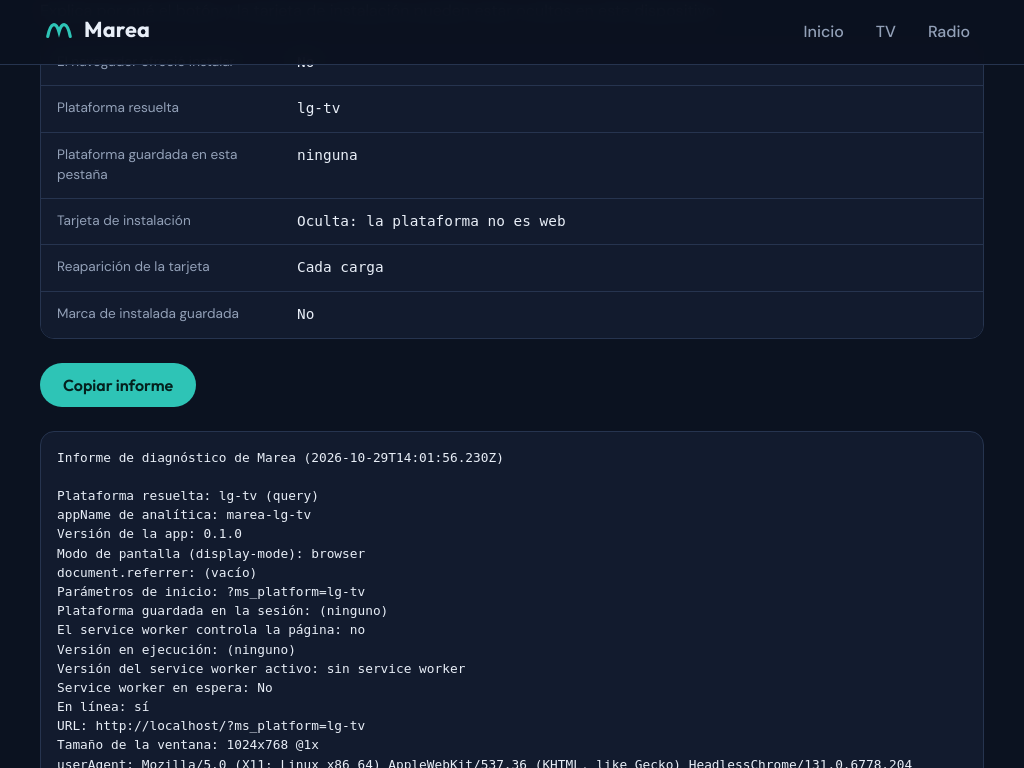
Test: Debug copy report › copies the report with the clipboard API
(page scrolled)
Click the button "Copiar informe": x=118, y=385 40,363 -> 196,407
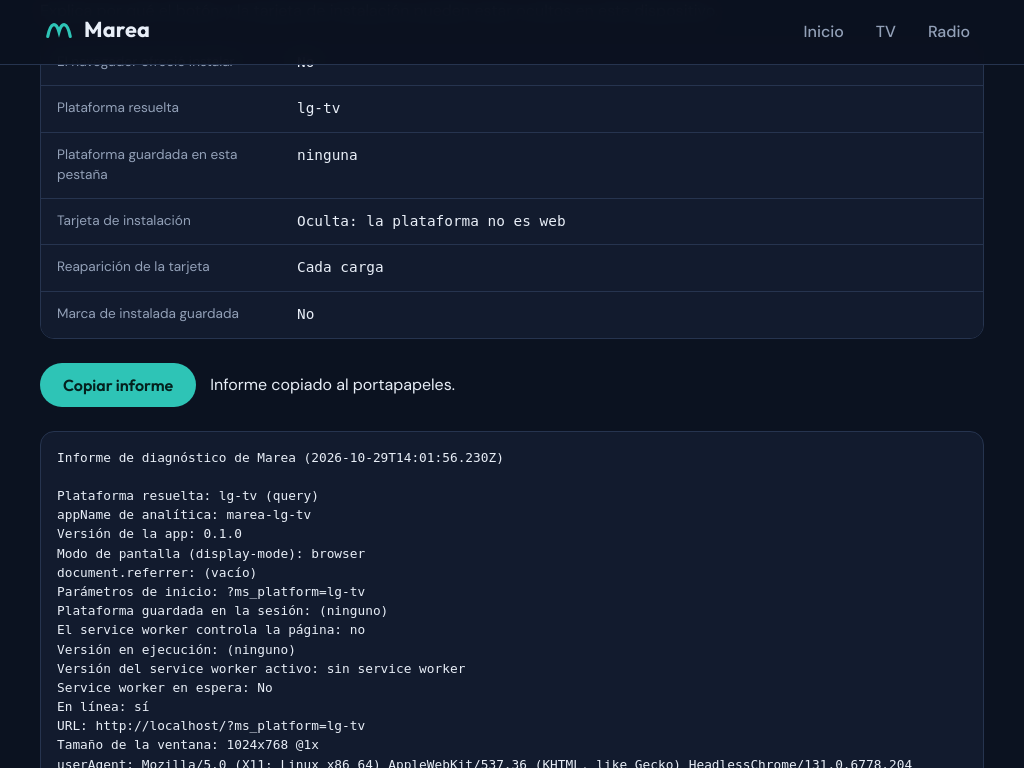
Result: the text "Informe copiado al portapapeles." is shown at 210,373 -> 455,397
